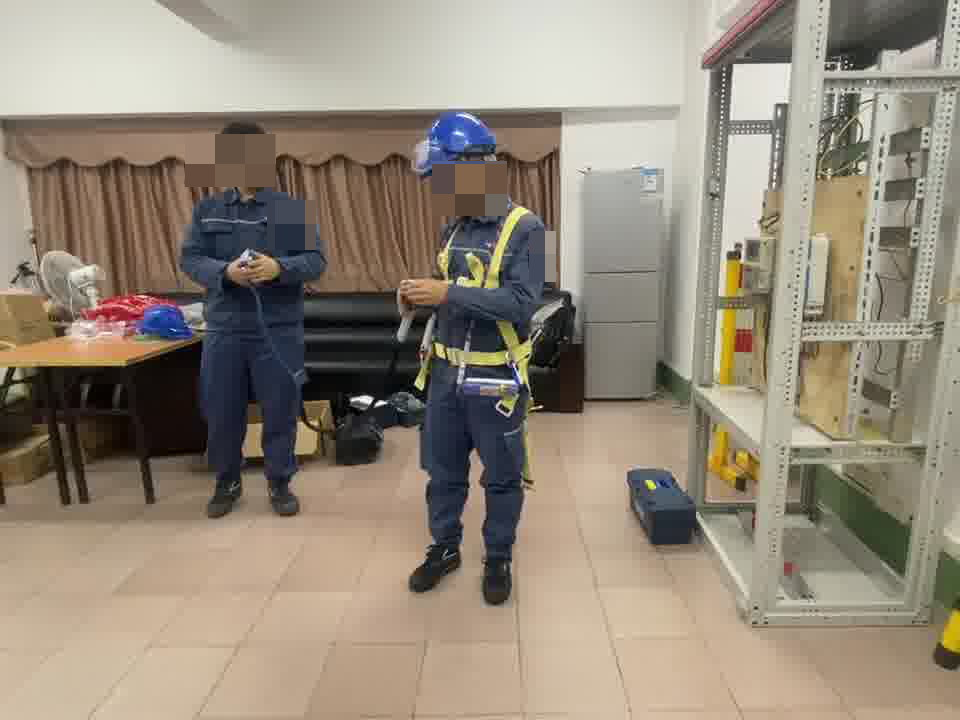downsuit: (422, 388, 528, 558), (201, 344, 306, 484)
halt: (416, 109, 502, 203), (219, 118, 277, 191)
hand: (398, 276, 446, 305), (249, 249, 281, 285), (225, 252, 253, 290)
inear: (462, 158, 487, 194)
noear: (219, 142, 254, 183)
person: (398, 108, 556, 600), (180, 117, 327, 514)
safebelt: (412, 201, 546, 492)
sleeve: (525, 241, 552, 271)
unhalt: (219, 118, 277, 192)
upsuit: (423, 196, 552, 372), (185, 188, 323, 333)
